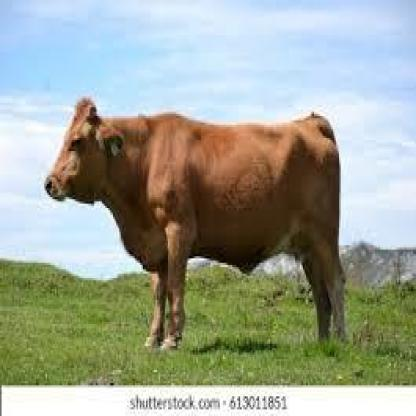cow: (45, 100, 346, 352)
